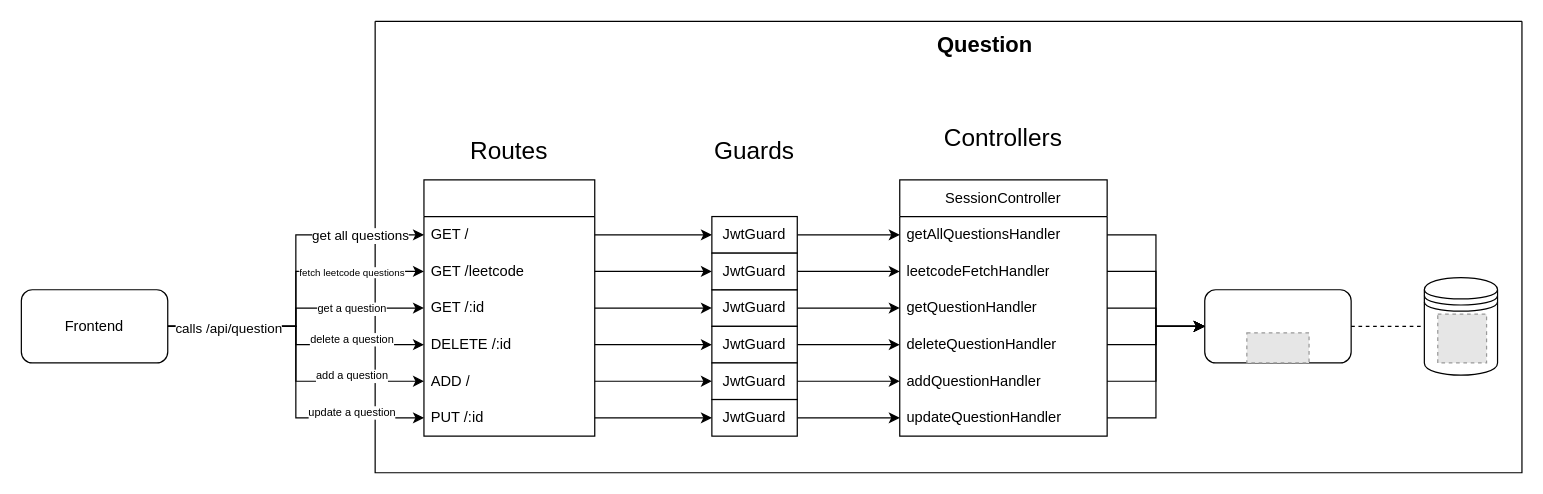
Image size: 1543x494. Some labels were removed from this diagram. Grey dashed boxes stand in for pictures. Here are the shapes that lost their labels. From the top down, the box of each, then its label:
(423, 179, 595, 436): QuestionRouter
(1204, 289, 1351, 363): Mongoose
